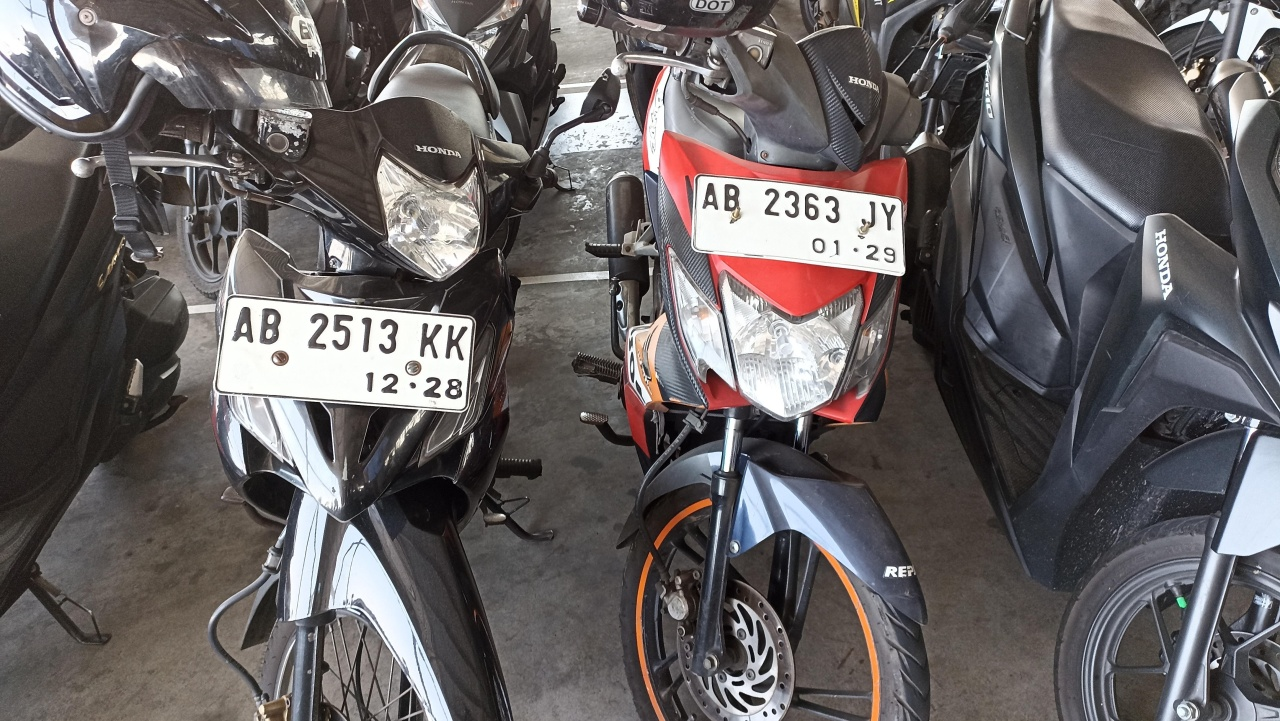plate: (213, 295, 476, 413), (693, 173, 905, 275)
